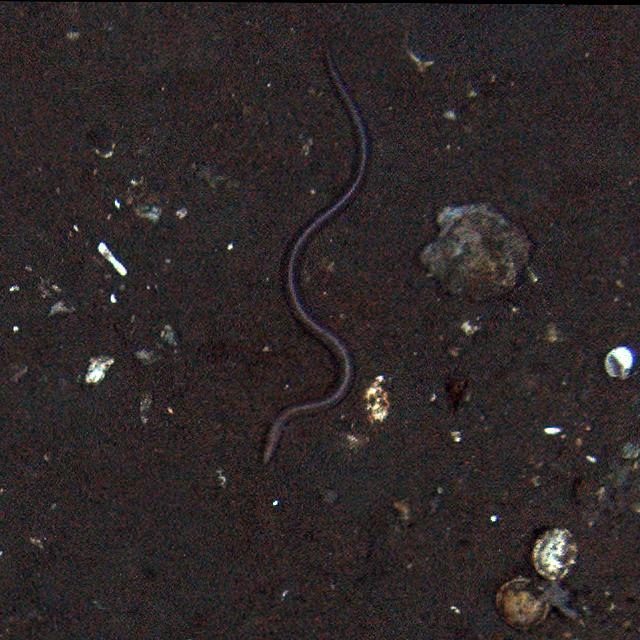eel: (251, 58, 371, 470)
